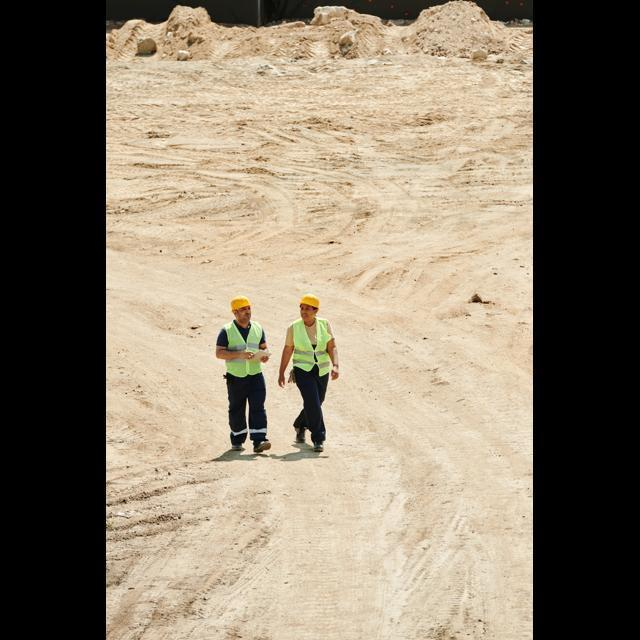helmet: (298, 292, 324, 314), (229, 294, 254, 316)
safety_vest: (224, 319, 266, 381), (289, 316, 330, 378)
